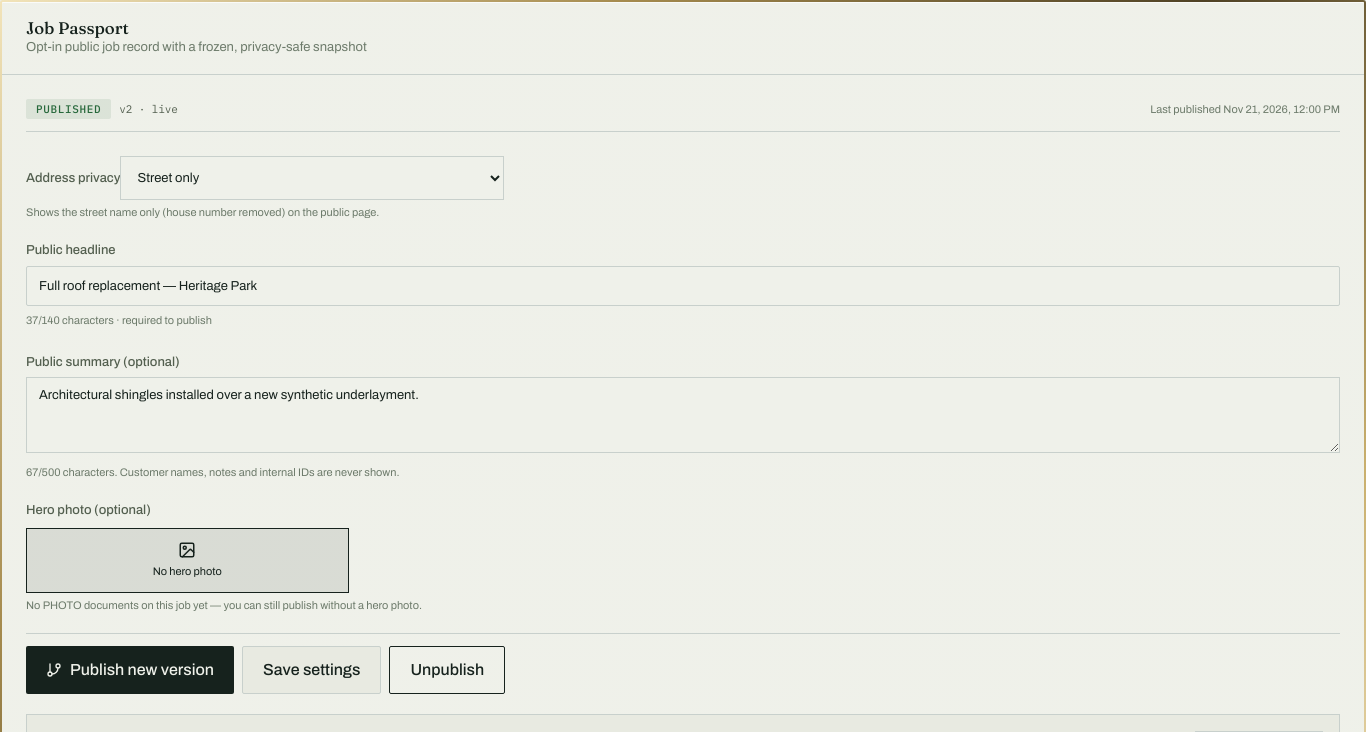
Scenario: PassportPanel — published record management › unpublishes after explicit confirmation
The width and height of the screenshot is (1366, 732).
Later steps or results of the test are not shown.
Click the button "Unpublish". click: click(447, 670)
box: [389,646,505,694]
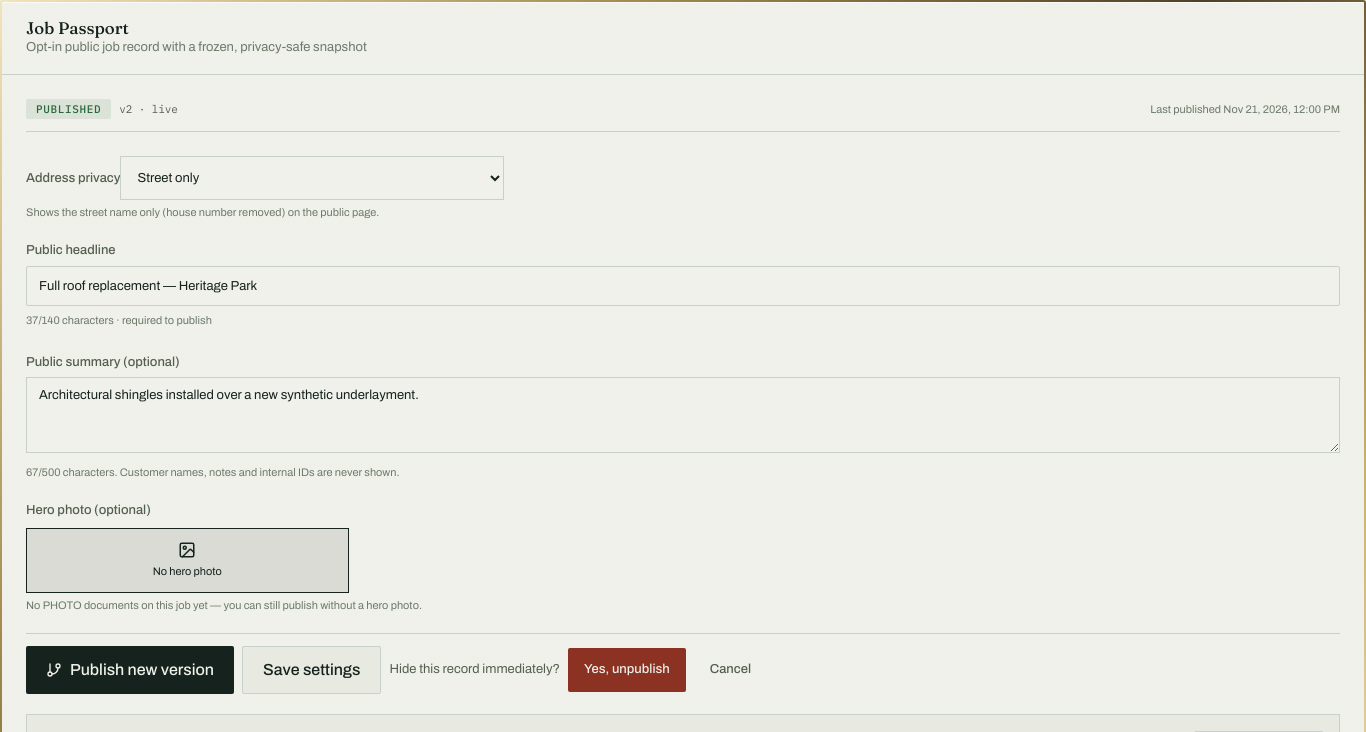
Now the text "Hide this record immediately?" is shown, box [389,660,560,680]
